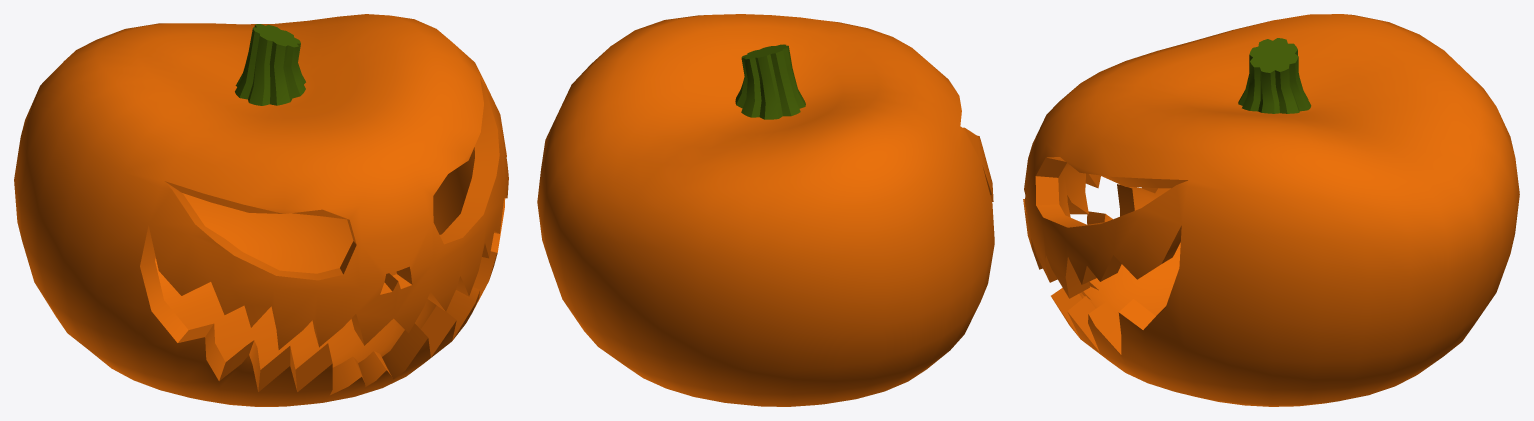
Rendered from pumpkin.fbx.
3 views of the same model, side by side, from view 1: azimuth 30°, elevation 25°; view 2: azimuth 150°, elevation 25°; view 3: azimuth 270°, elevation 25° (orthographic). The views are drawn at different scales.
Parts seen in each view (by area): view 1: Sphere; view 2: Sphere; view 3: Sphere.
Part boxes in pixels (left/top/right/bottom): Sphere: left=14, top=14, right=508, bottom=406; Sphere: left=537, top=14, right=994, bottom=406; Sphere: left=1023, top=14, right=1519, bottom=406.
Bounding box in the file's own units: 1.89 × 1.43 × 2.
